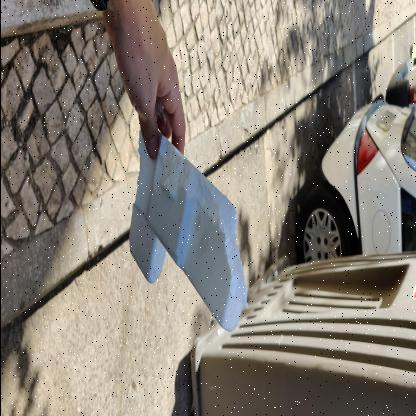foam: (126, 127, 248, 338)
